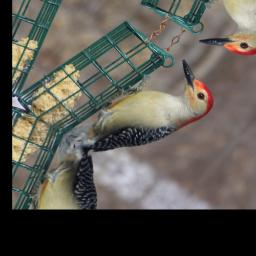Woodpecker: (66, 37, 229, 187)
